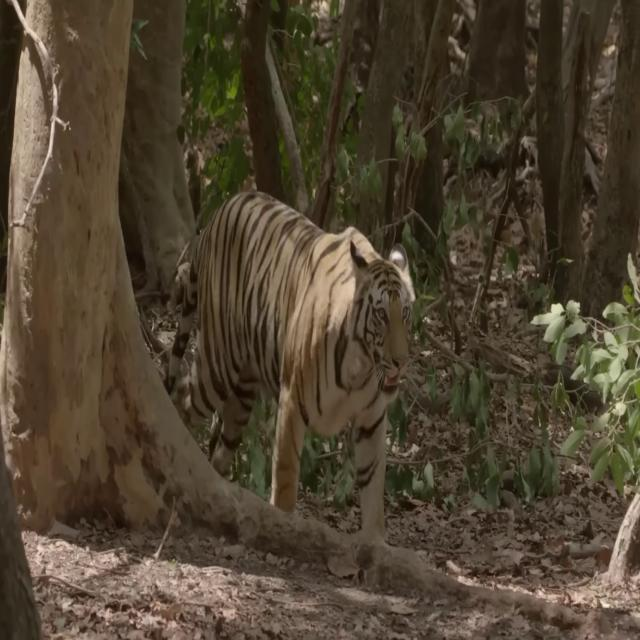tiger: (166, 190, 416, 544)
